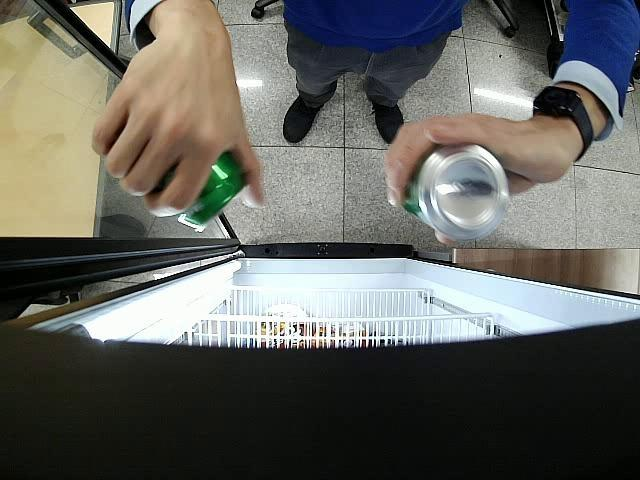12_chilsungCider: (400, 144, 510, 244), (148, 152, 244, 232)
